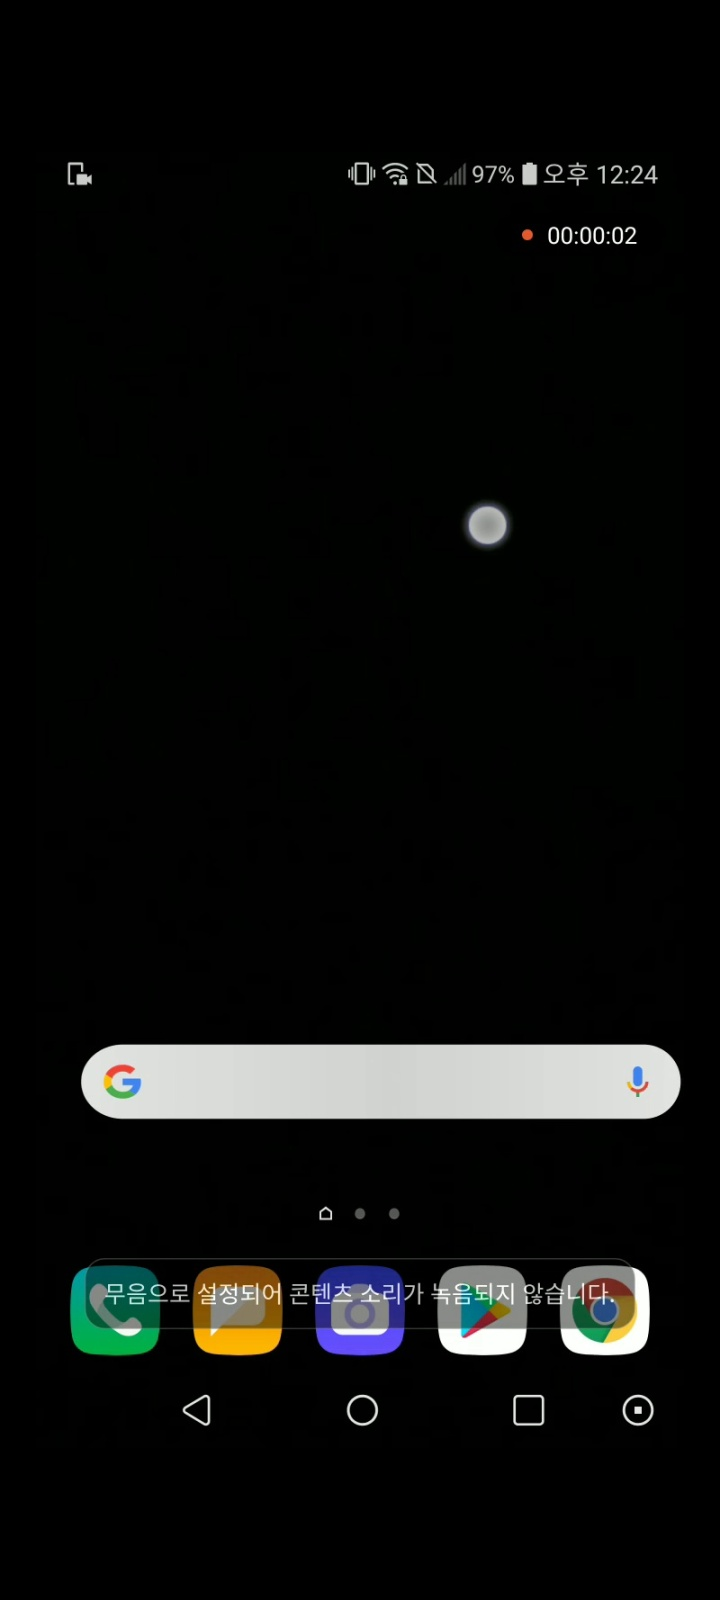Cursor: (468, 504, 513, 549)
